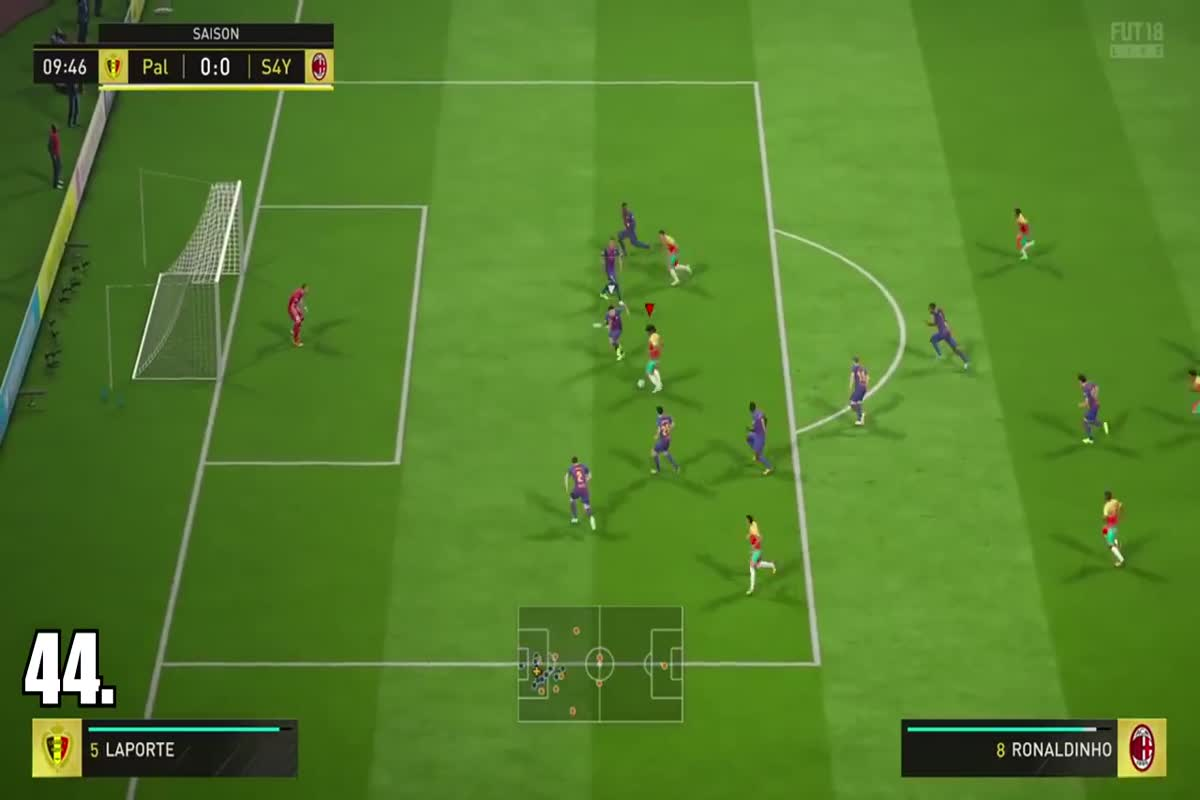ball: (627, 372, 651, 391)
